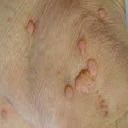Wart: (64, 60, 97, 97)
